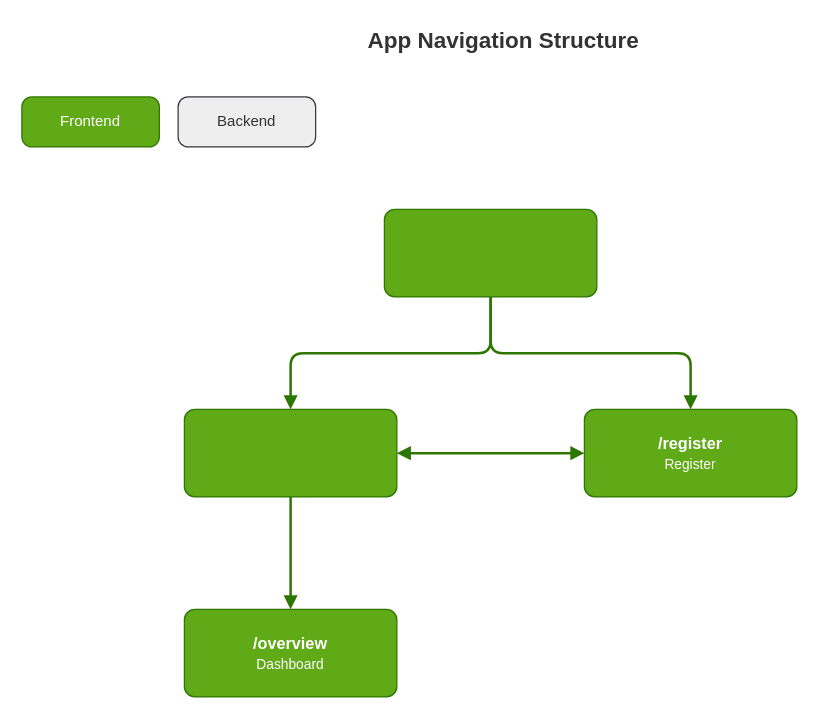
The diagram is 819 pixels wide and 719 high, and some of its shapes have lost their labels. The box of each missing label's shape, as (x1, y1, x2, y2) in pixels:
/ Landing: (383, 208, 597, 297)
/login Login: (183, 408, 397, 497)
